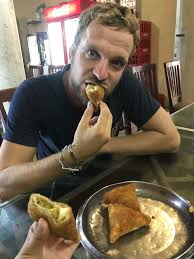eating: (25, 8, 165, 107)
